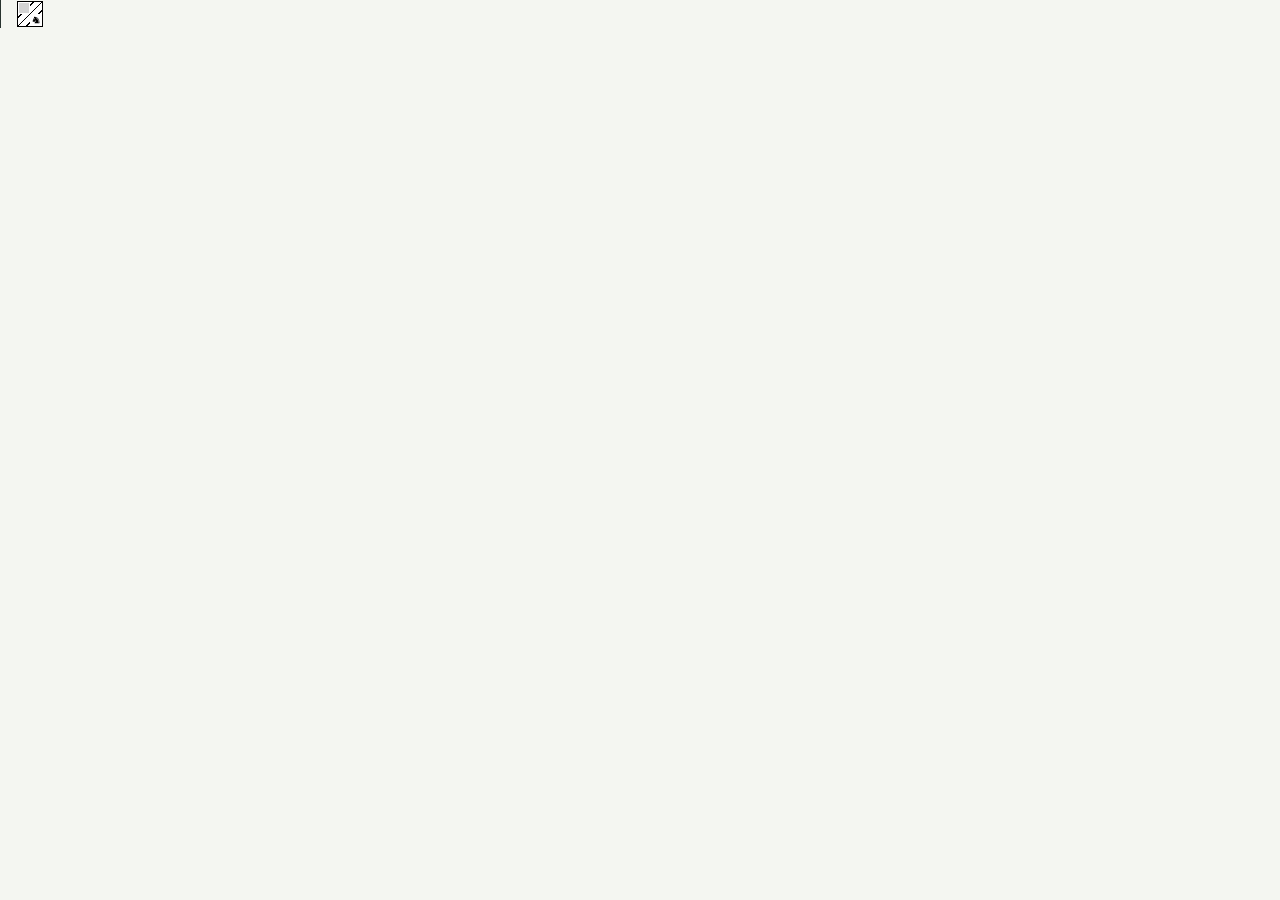
BoardStylePicker › lists every skin, then dresses the board in the chosen one
Click the button named "Board skin:". click: x=30, y=14
box: [1,0,59,28]
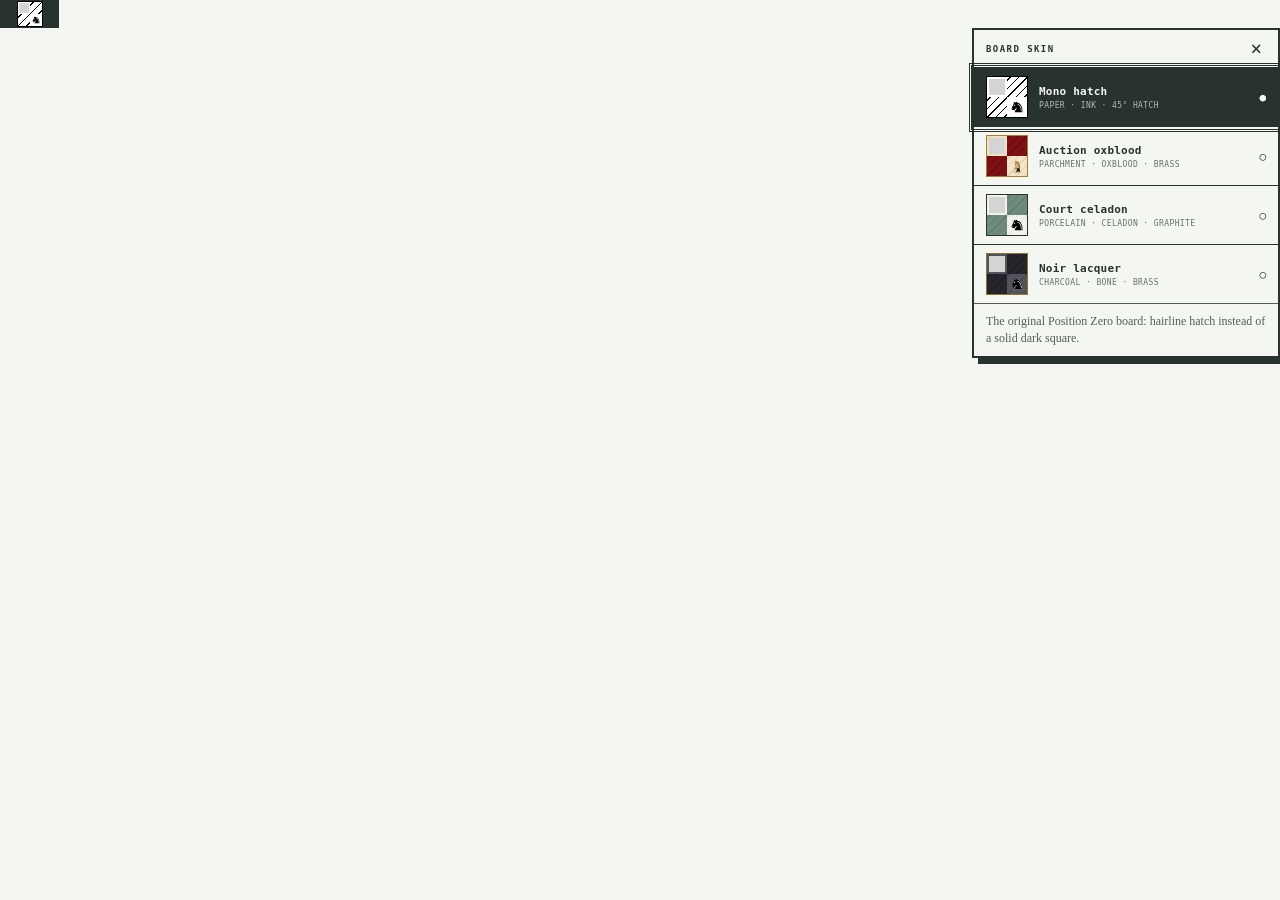
Expected: the number of radio buttons is 4
Click the radio button labelled "Auction oxblood Parchment · oxblood · brass ○". click: x=1126, y=156
box: [974,127,1278,186]
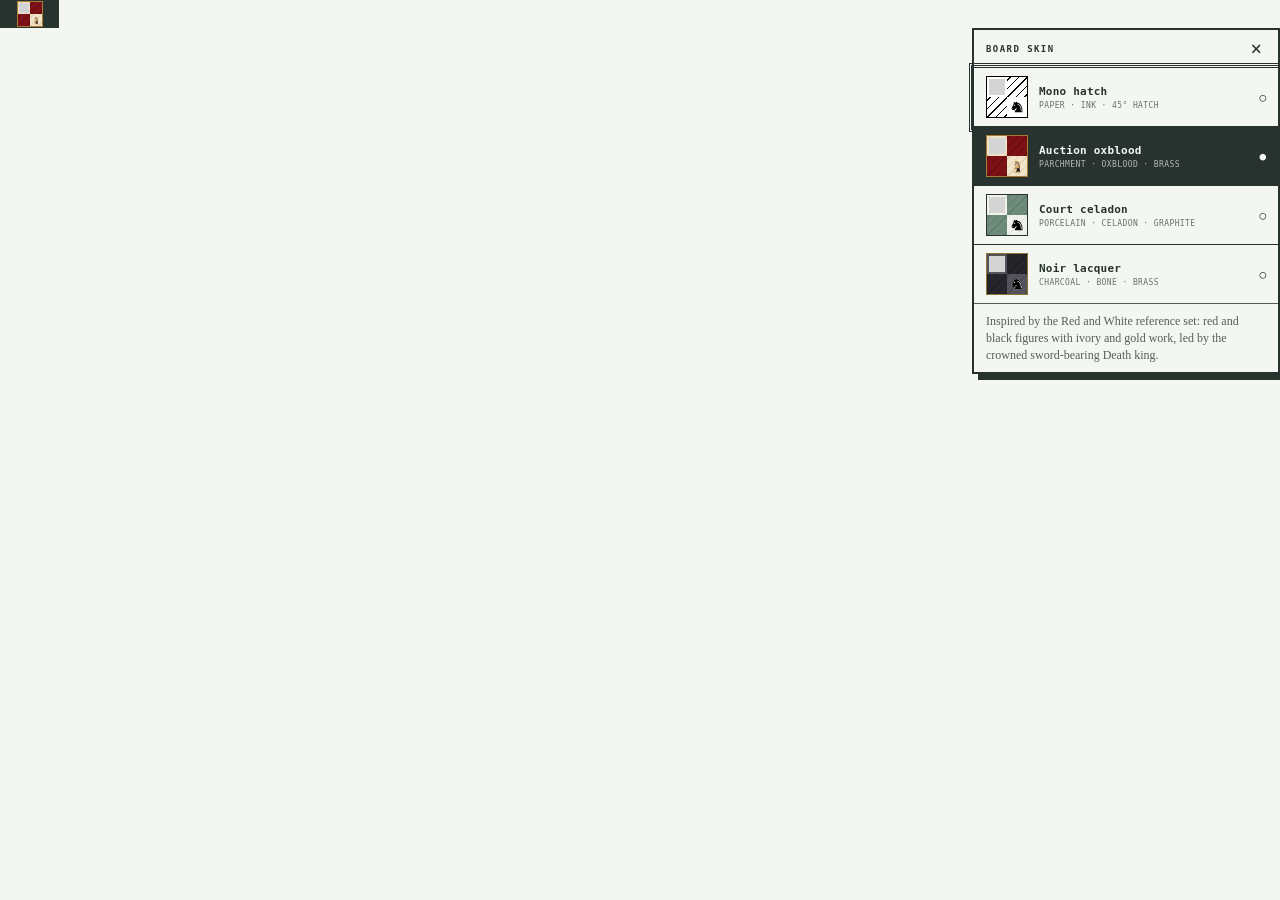
Expected: the dialog "BOARD SKIN" shows "reference set", [986,314,1239,362]
